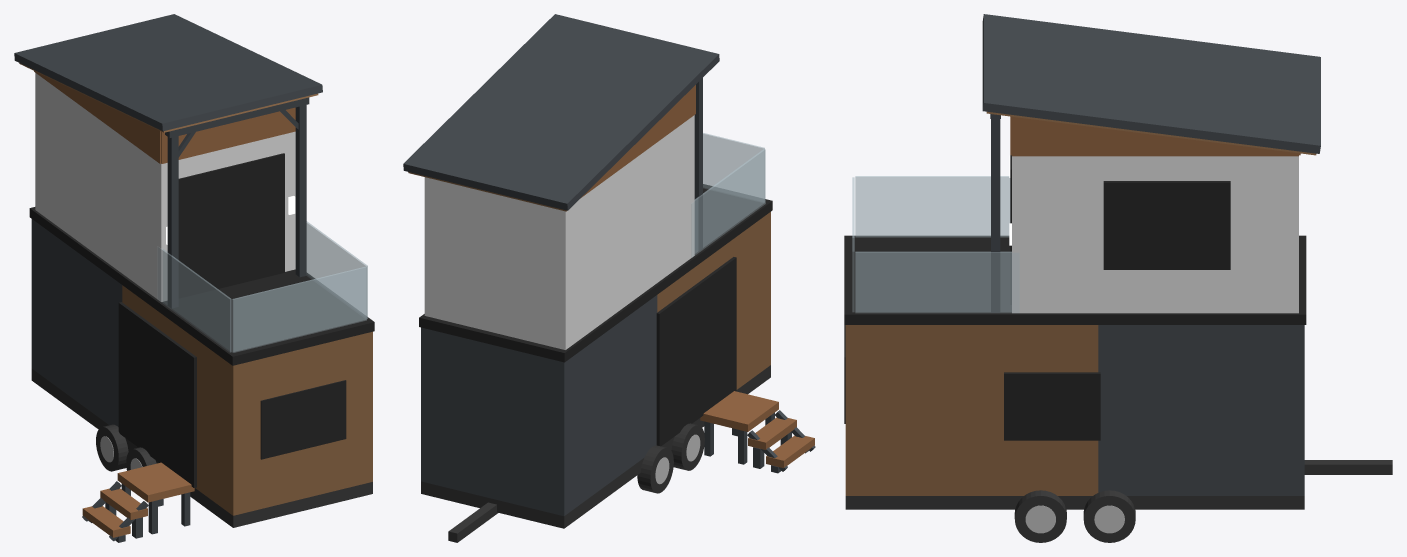
The model's file is tinyhouse.glb.
3 renders of one model, left to right at view 1: azimuth 30°, elevation 25°; view 2: azimuth 150°, elevation 25°; view 3: azimuth 270°, elevation 25°, orthographic. The views are drawn at different scales.
Parts seen in each view (by area): view 1: GF_Front_Wood, Upper_Room_Body, Roof_CharcoalCover, Upper_Floor_Deck, GF_Rear_Charcoal, Balcony_Door_Trim, GF_Door_Trim, Balcony_Glass_Front, GF_FrontWin_Trim, Balcony_Glass_Left, Balcony_Glass_Right, Chassis_Base (+10 smaller); view 2: Upper_Room_Body, GF_Rear_Charcoal, Roof_CharcoalCover, GF_Door_Trim, GF_Front_Wood, Upper_Floor_Deck, Balcony_Glass_Left, Balcony_Glass_Front, Chassis_Base, Entrance landing - flush to door sill, Roof fitted side infill -1.18, Balcony roof support post -1.1 (+5 smaller); view 3: GF_Front_Wood, GF_Rear_Charcoal, Upper_Room_Body, Roof_CharcoalCover, Upper_Floor_Deck, Upper_SideWin_Trim, Balcony_Glass_Right, Balcony_Glass_Left, GF_RightWin_Trim, Roof fitted side infill 1.18, Chassis_Base, Balcony roof support post 1.1 (+6 smaller).
Part boxes in pixels (x1,y1,x2,y2): GF_Front_Wood: (122,285,372,515); Upper_Room_Body: (35,73,295,301); Roof_CharcoalCover: (14,14,322,131); Upper_Floor_Deck: (29,207,374,365); GF_Rear_Charcoal: (31,219,122,426); Balcony_Door_Trim: (178,153,284,298); GF_Door_Trim: (118,302,196,487); Balcony_Glass_Front: (232,266,366,352); GF_FrontWin_Trim: (260,380,346,459); Balcony_Glass_Left: (157,247,231,352); Balcony_Glass_Right: (306,221,367,318); Chassis_Base: (31,368,372,527); Upper_Room_Body: (424,115,694,349); GF_Rear_Charcoal: (421,295,657,515); Roof_CharcoalCover: (403,14,719,210); GF_Door_Trim: (656,257,736,446); GF_Front_Wood: (657,212,770,389); Upper_Floor_Deck: (419,184,772,362); Balcony_Glass_Left: (691,149,765,257); Balcony_Glass_Front: (703,133,764,202); Chassis_Base: (421,365,770,528); Entrance landing - flush to door sill: (700,391,778,431); Roof fitted side infill -1.18: (580,85,695,198); Balcony roof support post -1.1: (694,78,702,251); GF_Front_Wood: (845,325,1098,495); GF_Rear_Charcoal: (1098,325,1304,495); Upper_Room_Body: (1012,156,1298,313); Roof_CharcoalCover: (982,14,1320,153); Upper_Floor_Deck: (844,235,1306,324); Upper_SideWin_Trim: (1103,181,1230,269); Balcony_Glass_Right: (855,251,1019,312); Balcony_Glass_Left: (855,176,1010,237); GF_RightWin_Trim: (1004,372,1100,440); Roof fitted side infill 1.18: (1012,116,1298,156); Chassis_Base: (845,496,1304,509); Balcony roof support post 1.1: (991,119,1000,312).
Bounding box in the file's own units: 4 × 6.35 × 7.17.
